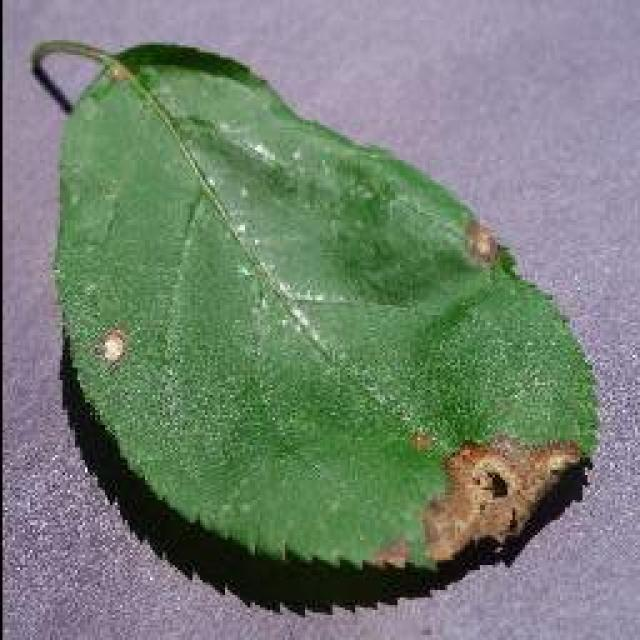apple scab disease: (28, 35, 602, 617)
